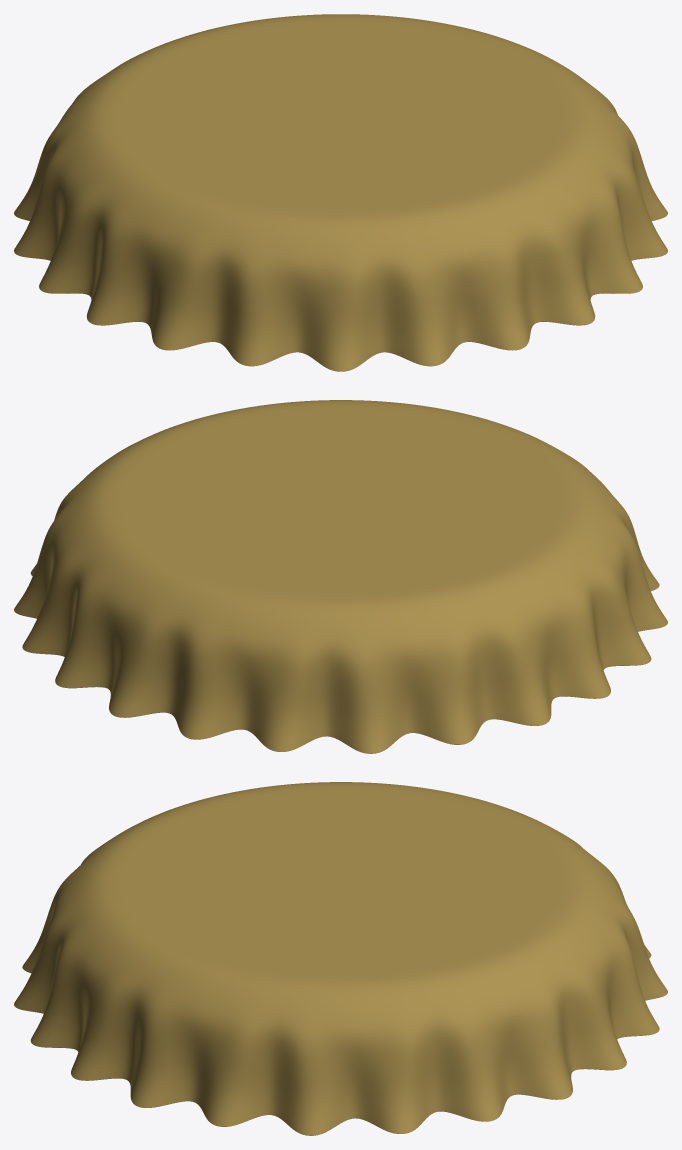
File: bottle_cap.glb
The picture shows the model from 3 angles, top to bottom: view 1: azimuth 30°, elevation 25°; view 2: azimuth 150°, elevation 25°; view 3: azimuth 270°, elevation 25°; orthographic projection.
Visible parts, largest first — view 1: Cylinder_2; view 2: Cylinder_2; view 3: Cylinder_2.
Boxes of the visible parts, <box> form: Cylinder_2: <box>14,14,667,371</box>; Cylinder_2: <box>14,400,667,753</box>; Cylinder_2: <box>14,782,667,1135</box>.
Size of what is drawn, in the model's own units: 0.0593 by 0.0115 by 0.0595.
